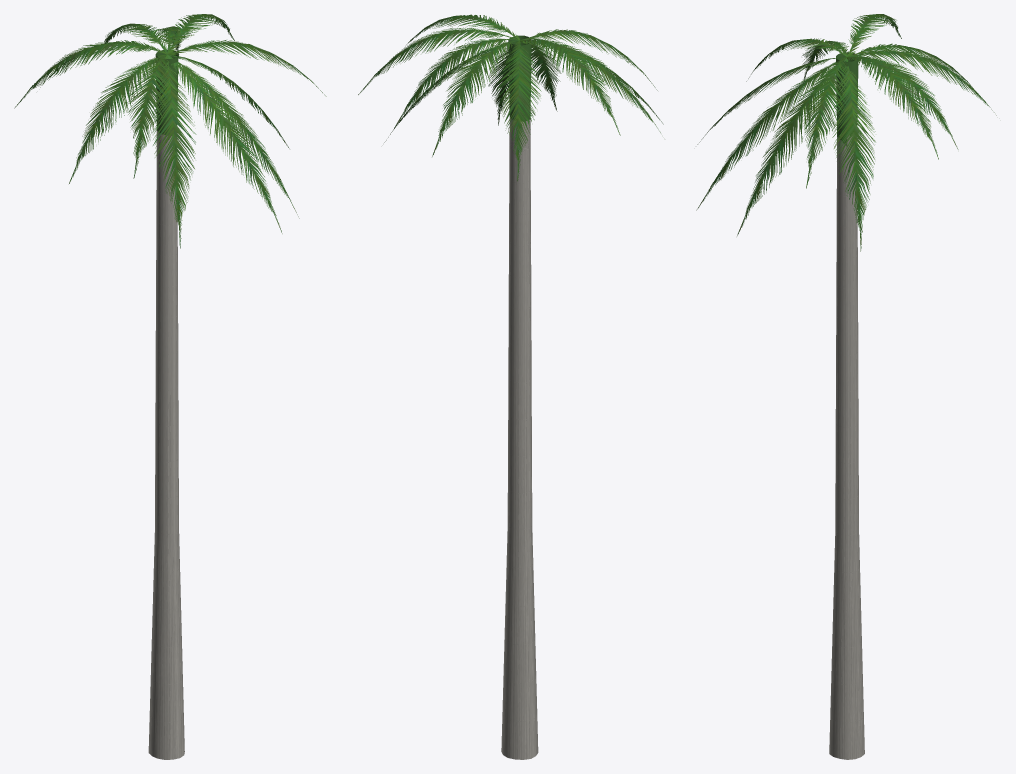
Rendered from RoyalPalm_LOD0.fbx.
The picture shows the model from 3 angles, left to right: view 1: azimuth 30°, elevation 25°; view 2: azimuth 150°, elevation 25°; view 3: azimuth 270°, elevation 25°; orthographic projection. The views are drawn at different scales.
Parts seen in each view (by area): view 1: RoyalPalm_LOD0; view 2: RoyalPalm_LOD0; view 3: RoyalPalm_LOD0.
Boxes of the visible parts, left/top/right/bottom form: RoyalPalm_LOD0: left=14, top=14, right=326, bottom=759; RoyalPalm_LOD0: left=358, top=14, right=663, bottom=759; RoyalPalm_LOD0: left=696, top=14, right=996, bottom=759.
Bounding box in the file's own units: 8.13 × 20.75 × 8.16.
1 material, 1 textured.
